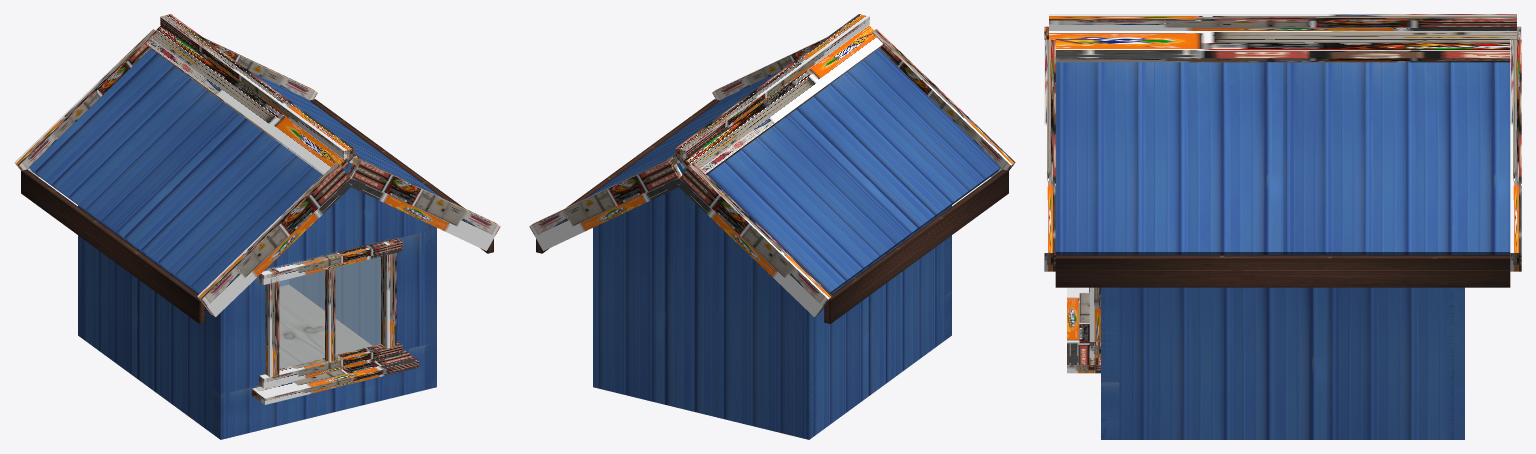
The model's file is Roof_Dormer.fbx.
3 renders of one model, left to right at view 1: azimuth 30°, elevation 25°; view 2: azimuth 150°, elevation 25°; view 3: azimuth 270°, elevation 25°, orthographic. The views are drawn at different scales.
Visible parts, largest first — view 1: Roof_Dormer; view 2: Roof_Dormer; view 3: Roof_Dormer.
Part boxes in pixels (x1,y1,x2,y2): Roof_Dormer: (14,14,500,439); Roof_Dormer: (529,14,1015,439); Roof_Dormer: (1044,14,1521,439).
Size of the model in its own units: 1.94 by 1.73 by 2.1.
